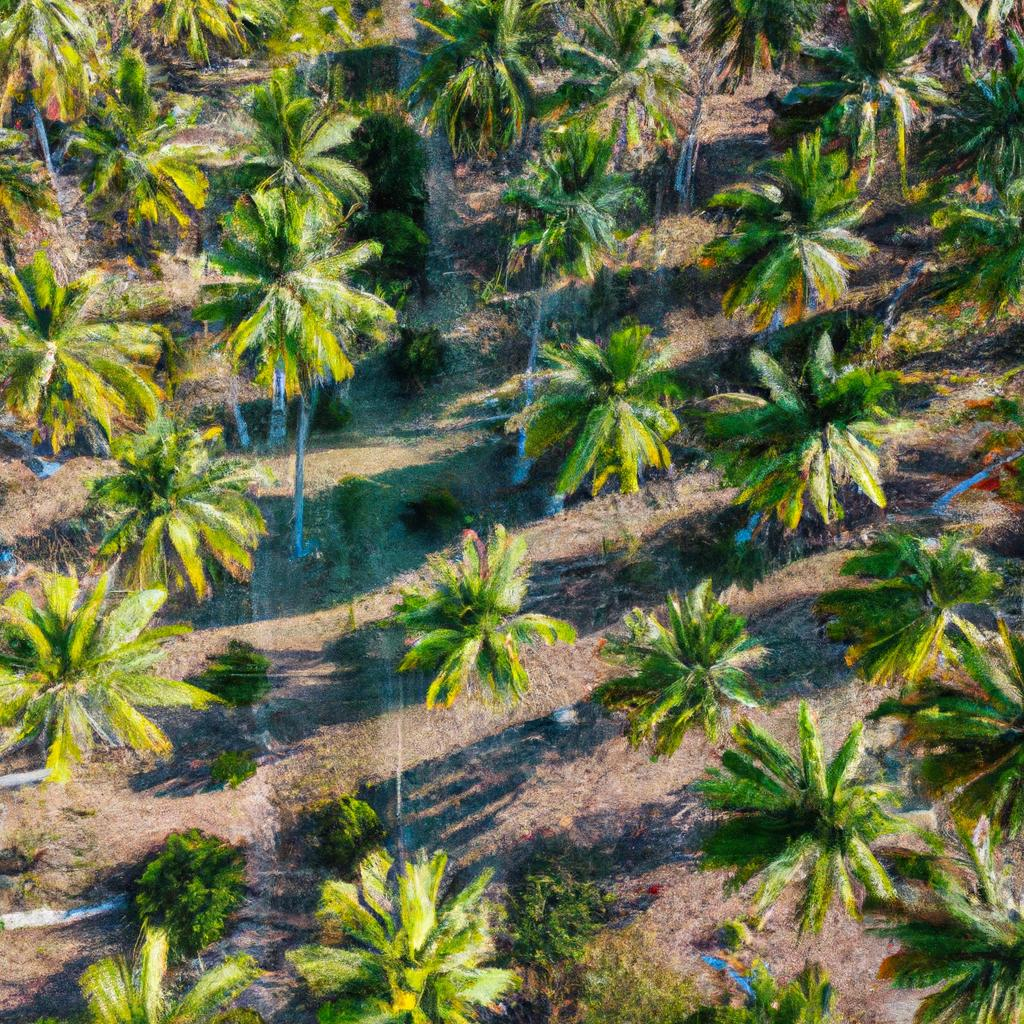coconut_tree: (0, 562, 265, 793), (697, 308, 930, 539), (685, 720, 933, 920), (193, 186, 416, 405), (668, 135, 898, 316), (40, 432, 305, 588), (384, 516, 595, 708), (493, 315, 706, 494), (474, 107, 674, 296), (0, 242, 185, 440), (587, 581, 789, 729)
